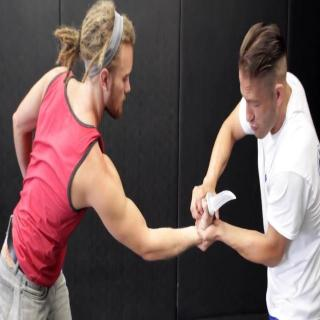knife: (194, 184, 242, 223)
